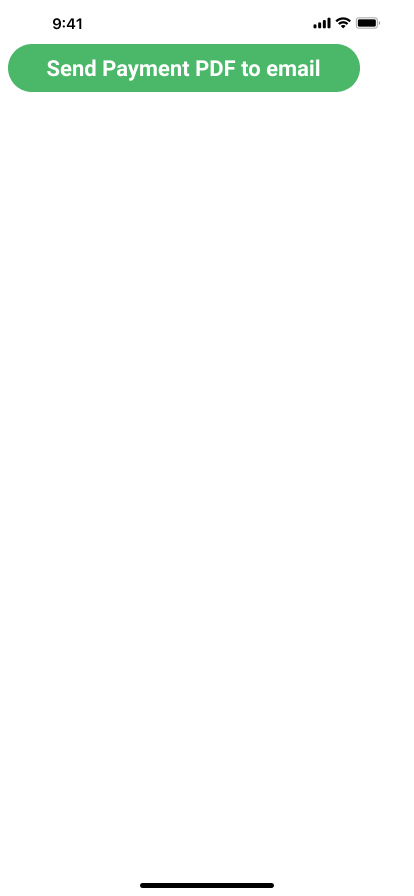Buttons: (8, 44, 360, 92)
Home Indicator: (0, 862, 414, 896)
Status Bar: (0, 0, 414, 44)
